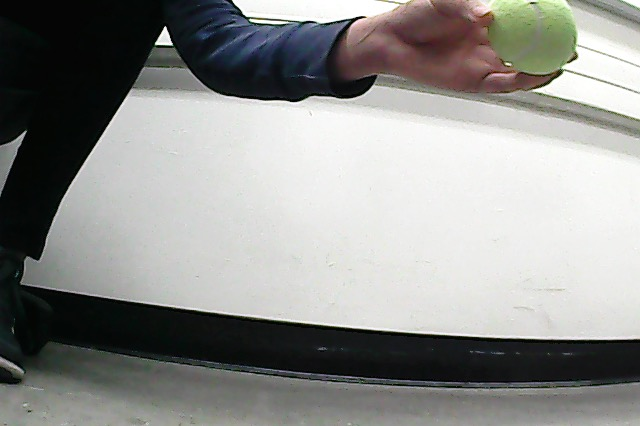ball: (488, 2, 579, 77)
